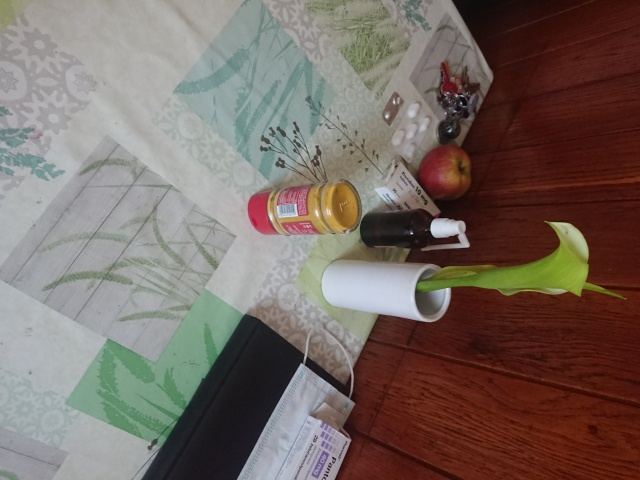Kotanyi Curry Spices Mix 70g: (245, 178, 365, 238)
